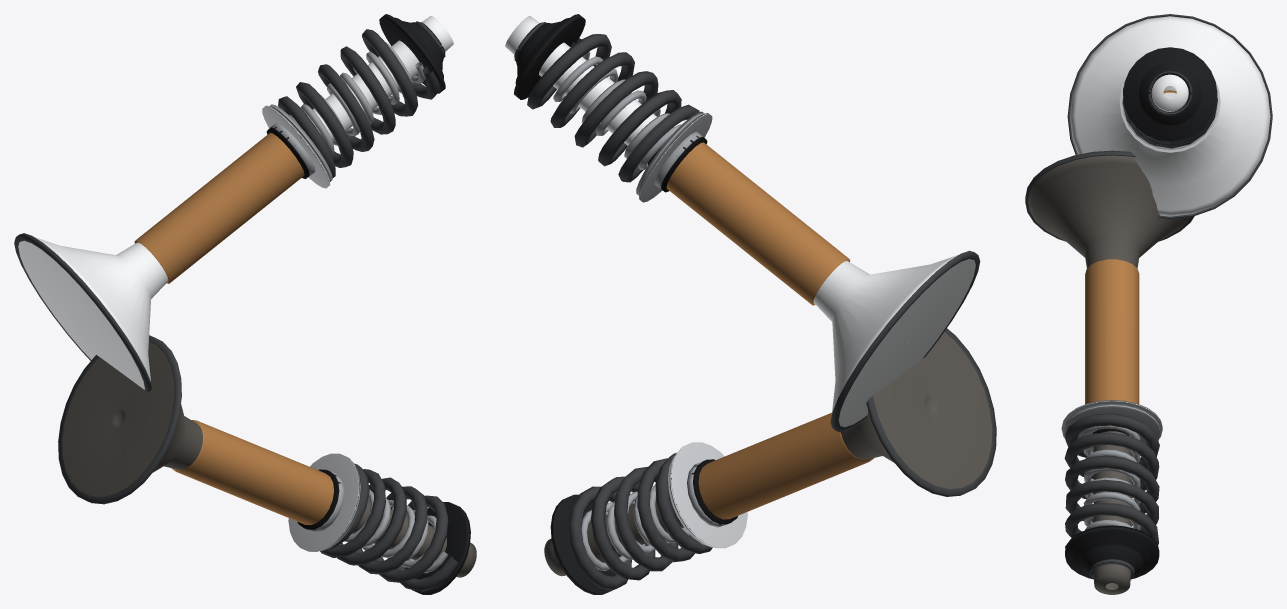
Rendered from valve-set-5.glb.
3 renders of one model, left to right at view 1: azimuth 30°, elevation 25°; view 2: azimuth 150°, elevation 25°; view 3: azimuth 270°, elevation 25°, orthographic. The views are drawn at different scales.
Parts seen in each view (by area): view 1: valve-set-5:darkSteel, valve-set-5:bronze, valve-set-5:heatSteel, valve-set-5:chrome, valve-set-5:steel, valve-set-5:satinBlack, valve-set-5:polishedSteel, valve-set-5:rubber; view 2: valve-set-5:darkSteel, valve-set-5:bronze, valve-set-5:chrome, valve-set-5:heatSteel, valve-set-5:steel, valve-set-5:satinBlack, valve-set-5:polishedSteel, valve-set-5:rubber; view 3: valve-set-5:chrome, valve-set-5:heatSteel, valve-set-5:darkSteel, valve-set-5:satinBlack, valve-set-5:bronze, valve-set-5:steel, valve-set-5:polishedSteel.
Part boxes in pixels (left/top/right/bottom): valve-set-5:darkSteel: left=14, top=21, right=468, bottom=591; valve-set-5:bronze: left=134, top=132, right=333, bottom=524; valve-set-5:heatSteel: left=62, top=342, right=476, bottom=577; valve-set-5:chrome: left=18, top=16, right=453, bottom=389; valve-set-5:steel: left=269, top=42, right=448, bottom=573; valve-set-5:satinBlack: left=379, top=14, right=470, bottom=594; valve-set-5:polishedSteel: left=262, top=105, right=360, bottom=551; valve-set-5:rubber: left=266, top=126, right=340, bottom=530; valve-set-5:darkSteel: left=514, top=22, right=996, bottom=590; valve-set-5:bronze: left=666, top=142, right=873, bottom=519; valve-set-5:chrome: left=505, top=16, right=975, bottom=427; valve-set-5:heatSteel: left=544, top=332, right=992, bottom=576; valve-set-5:steel: left=553, top=47, right=726, bottom=570; valve-set-5:satinBlack: left=514, top=14, right=619, bottom=594; valve-set-5:polishedSteel: left=639, top=113, right=747, bottom=548; valve-set-5:rubber: left=648, top=135, right=737, bottom=525; valve-set-5:chrome: left=1070, top=16, right=1270, bottom=216; valve-set-5:heatSteel: left=1027, top=155, right=1190, bottom=594; valve-set-5:darkSteel: left=1025, top=14, right=1272, bottom=579; valve-set-5:satinBlack: left=1065, top=47, right=1217, bottom=578; valve-set-5:bronze: left=1085, top=90, right=1176, bottom=404; valve-set-5:steel: left=1064, top=96, right=1218, bottom=530; valve-set-5:polishedSteel: left=1061, top=77, right=1220, bottom=438.
Size of the model in its own units: 112 by 144 by 59.8.
